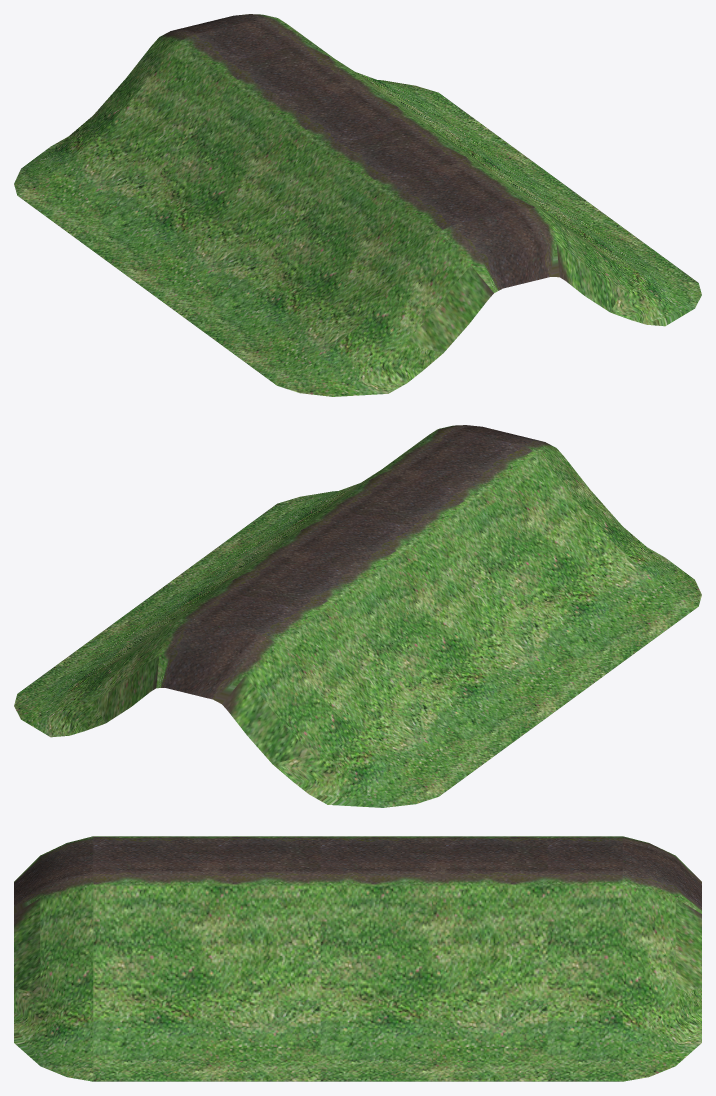
Rendered from 1nasip_40_TSM.gltf.
The picture shows the model from 3 angles, top to bottom: view 1: azimuth 30°, elevation 25°; view 2: azimuth 150°, elevation 25°; view 3: azimuth 270°, elevation 25°; orthographic projection.
Size of the model in its own units: 37.47 by 10.02 by 52.
Materials: 1 (1 with a texture image).
